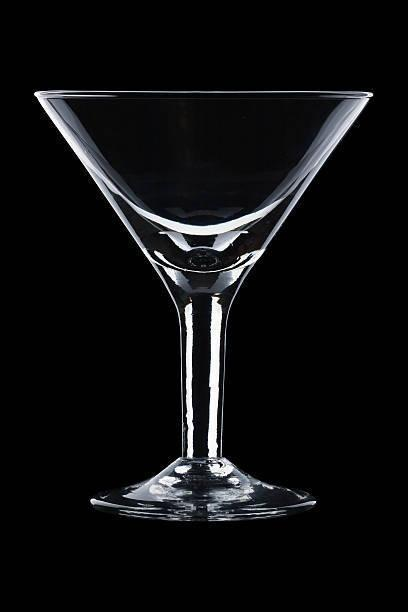glass-wine: (30, 84, 376, 522)
